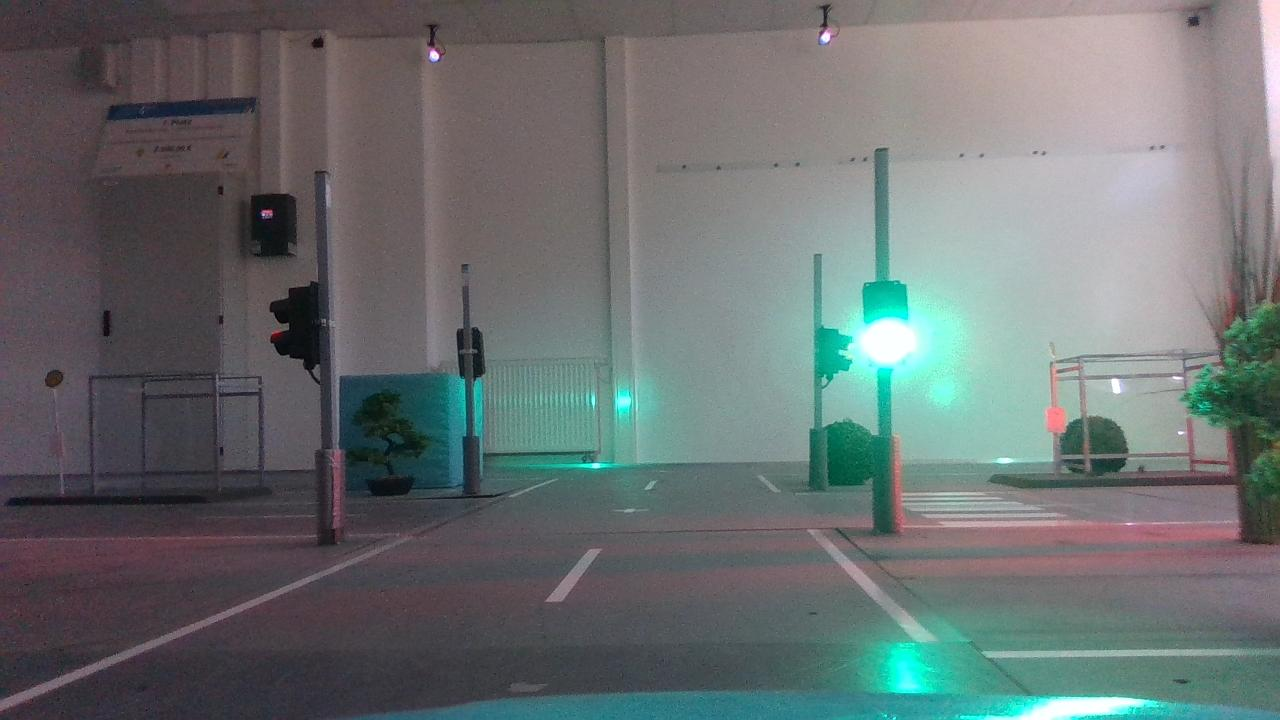traffic_light_green: (860, 274, 923, 376)
